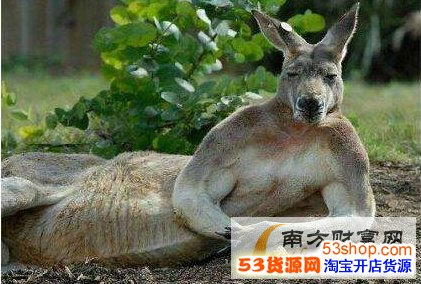kangaroo: (2, 2, 380, 265)
